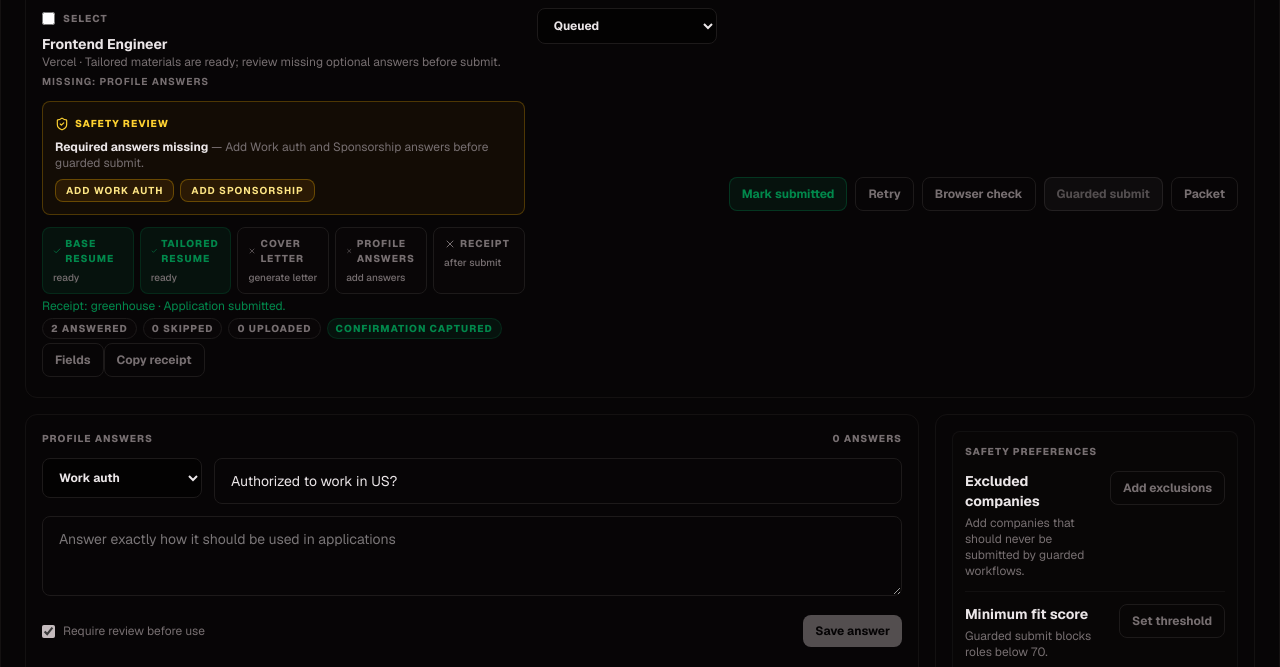
Test: ApplyAgentCommandCenter › reveals field-level receipt details on demand
(page scrolled)
Click the button "Fields" at (73, 360), box [42,343,104,377]
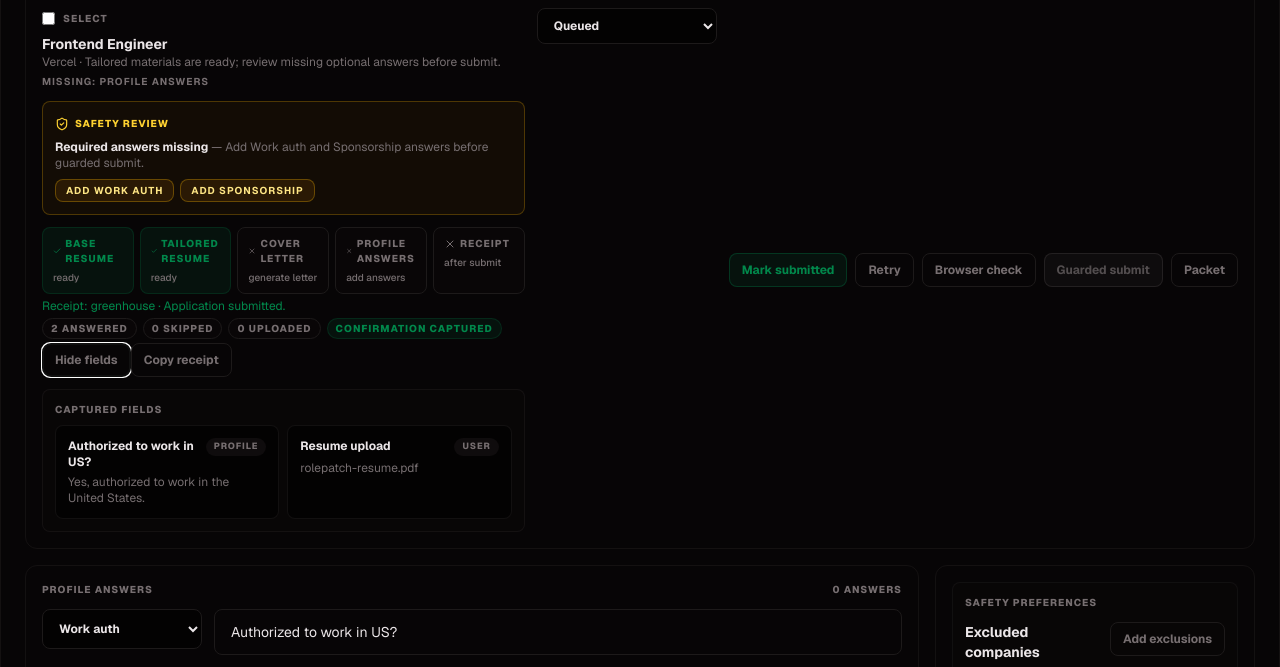
Now the text "Authorized to work in US?" is shown, box [68,438,198,470]
Now the text "Yes, authorized to work in the United States." is shown, box [68,474,229,506]
Now the text "Resume upload" is shown, box [300,438,391,454]
